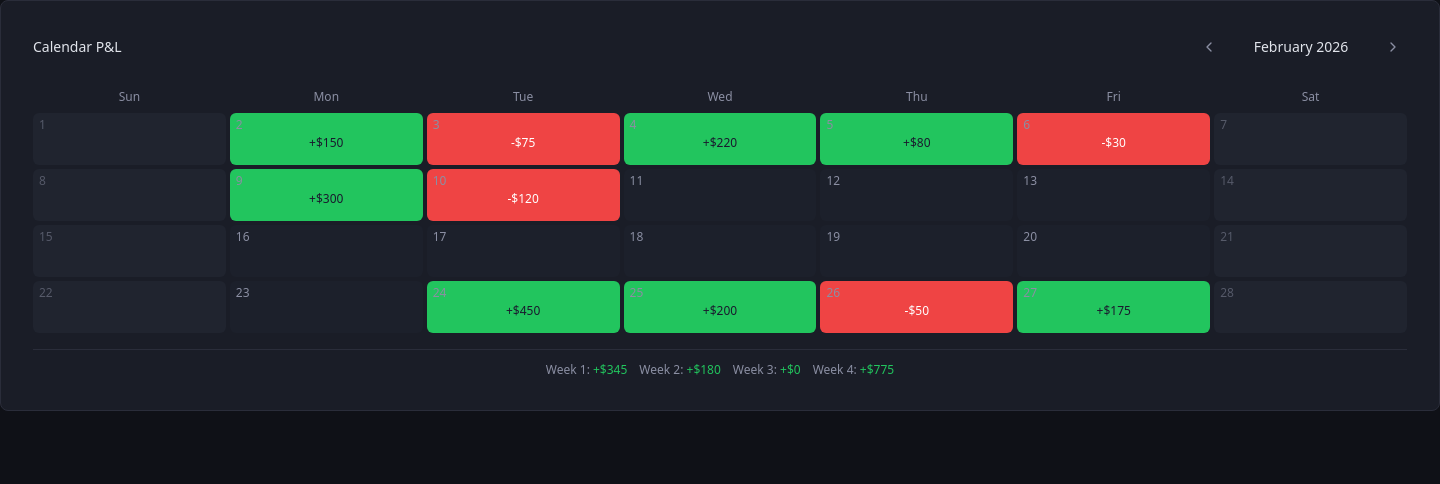
CalendarPnlView › navigates months with arrows
The width and height of the screenshot is (1440, 484).
Check: the text "February 2026" is shown, box [1254,37,1348,56]
// Click previous month
Click the button named "Previous month".
click(1209, 47)  # box [1195,33,1223,61]
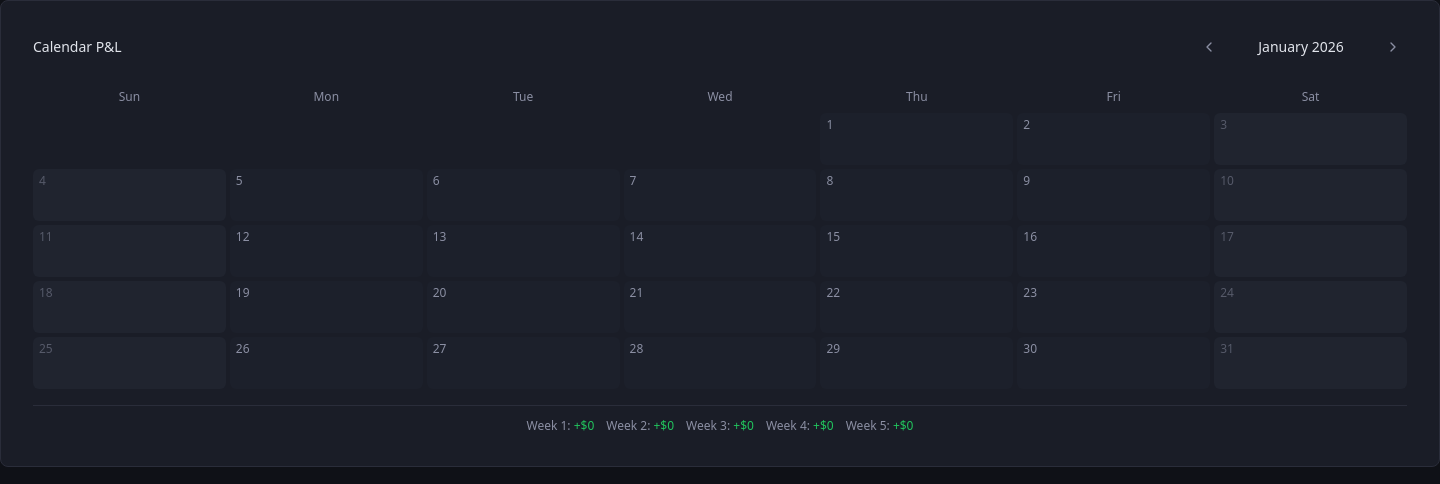
Check: the text "January 2026" is shown, box [1258,37,1344,56]
// Click next month twice to get to March
Click the button named "Next month".
click(1393, 47)  # box [1379,33,1407,61]
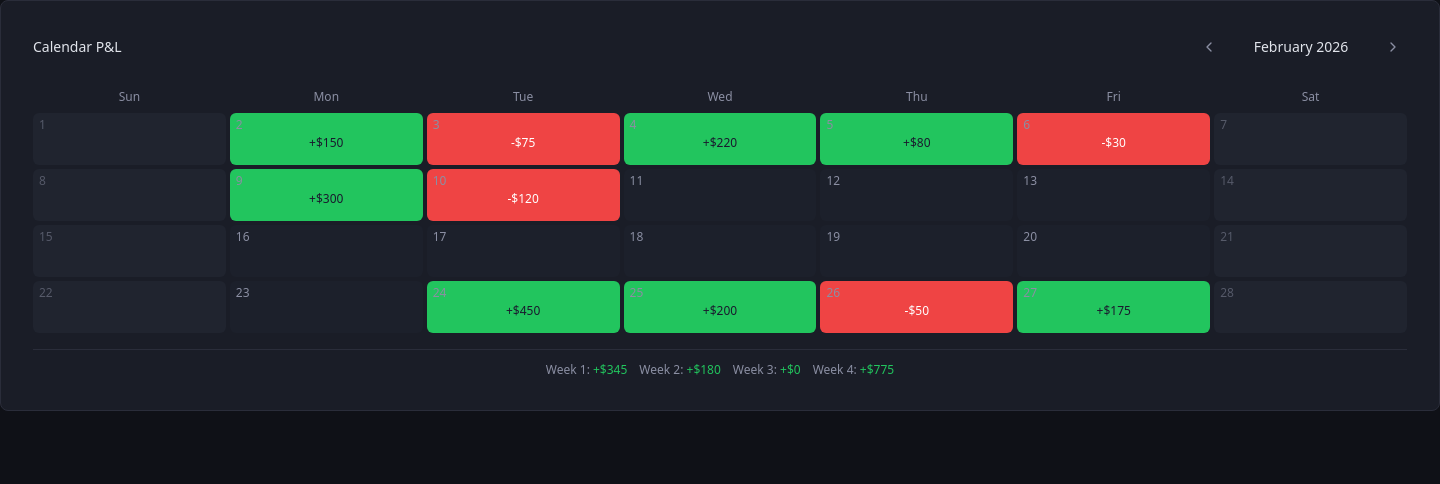
Click the button named "Next month".
click(1393, 47)  # box [1379,33,1407,61]
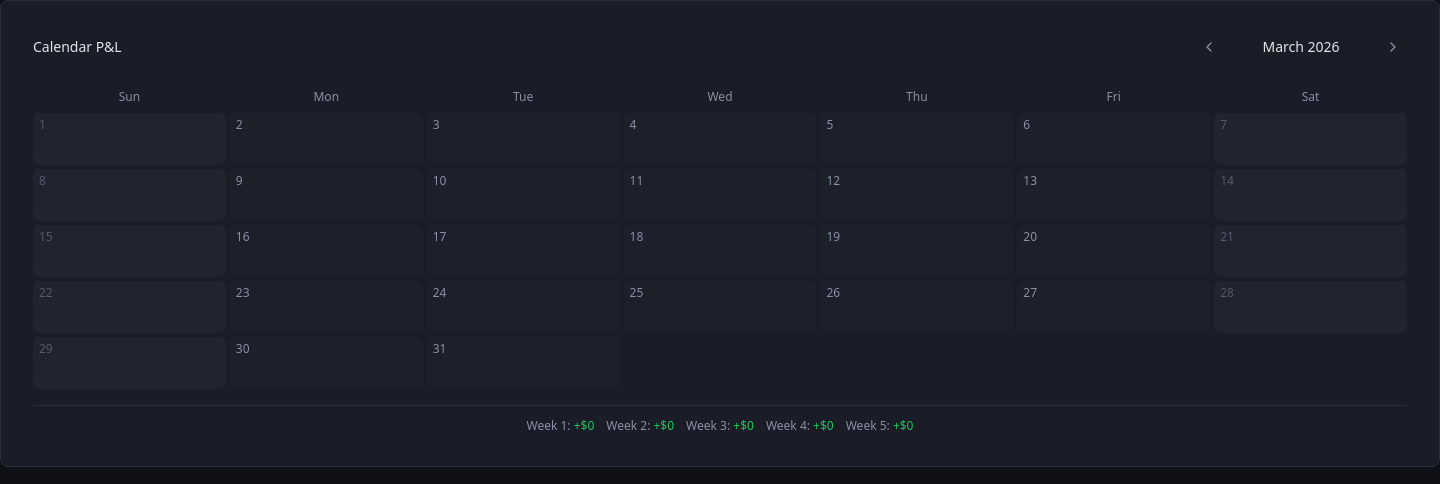
Check: the text "March 2026" is shown, box [1262,37,1340,56]
